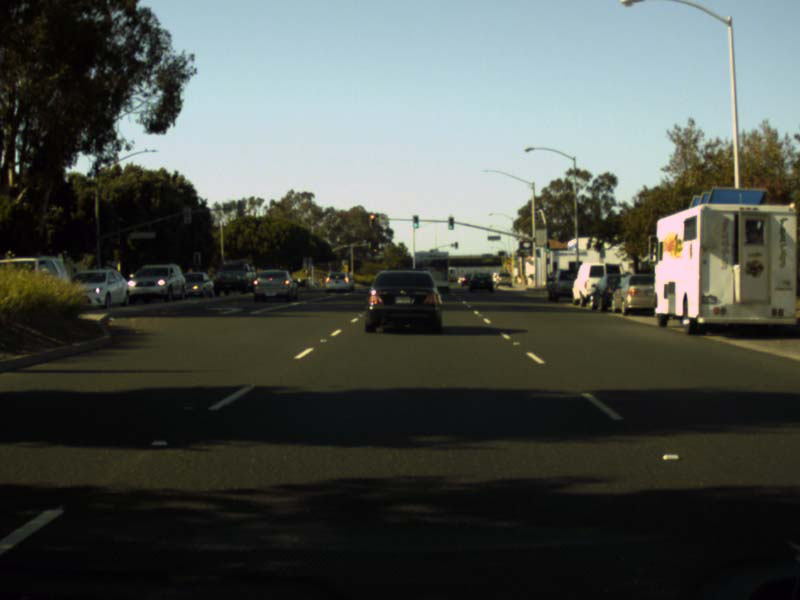Green: (447, 216, 453, 230), (413, 215, 418, 228)
Red: (369, 215, 374, 227)
Yellow: (372, 241, 378, 255)
